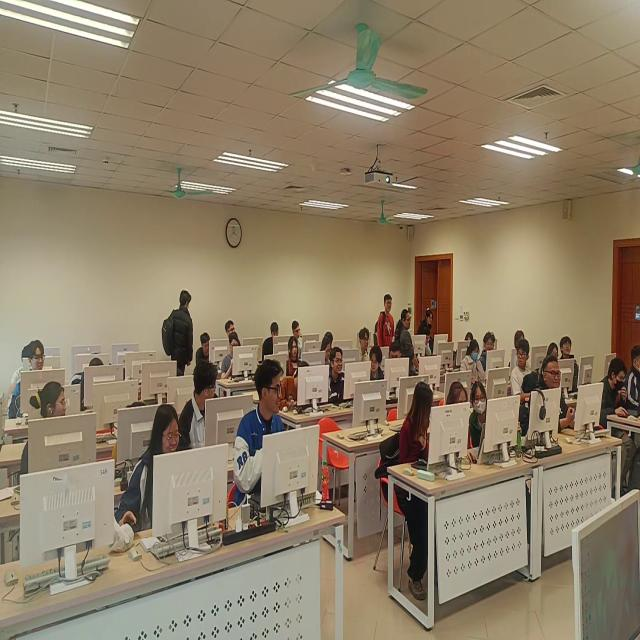raise_head: (539, 358, 599, 455), (324, 349, 354, 409), (285, 336, 308, 376), (481, 333, 501, 371), (559, 334, 579, 368), (358, 322, 374, 361), (420, 310, 437, 337), (290, 322, 308, 343), (224, 321, 240, 339)
stand: (164, 286, 195, 388), (396, 309, 418, 377), (379, 295, 395, 360)
using_computer: (125, 410, 207, 546), (595, 357, 640, 453), (444, 380, 477, 464), (16, 342, 49, 411), (222, 335, 257, 386), (75, 355, 106, 412), (458, 343, 494, 387), (390, 341, 414, 397), (420, 326, 447, 370), (194, 334, 224, 368), (264, 321, 285, 355), (320, 338, 334, 364)
